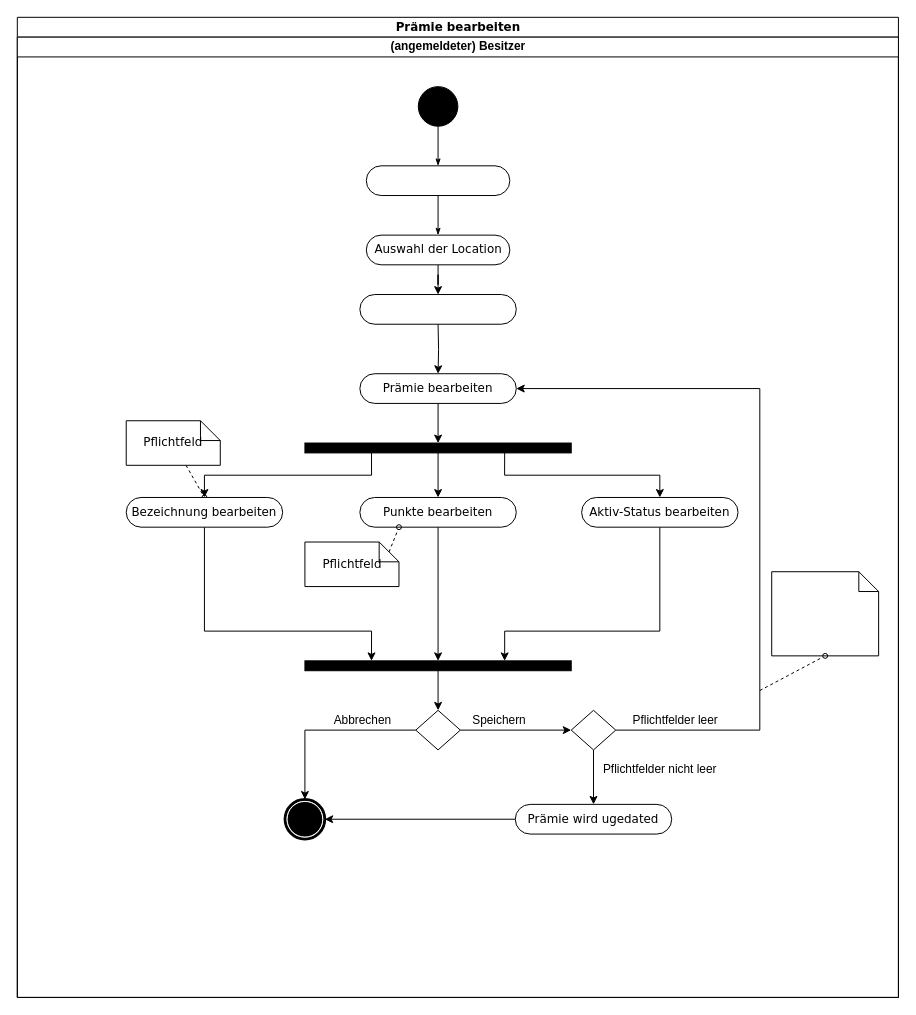
The diagram is 916 pixels wide and 1015 high, and some of its shapes have lost their labels. The shapes that lost their labels are listed below. From the top down, each one's centre as x and y in pixels, then its label:
pixel 437 180: Öffnen des Prämien fensters
pixel 437 309: Zu bearbeitende Prämie auswählen
pixel 825 613: Darauf hinweisen das alle Pflichfelder ausgefüllt werden müssen
